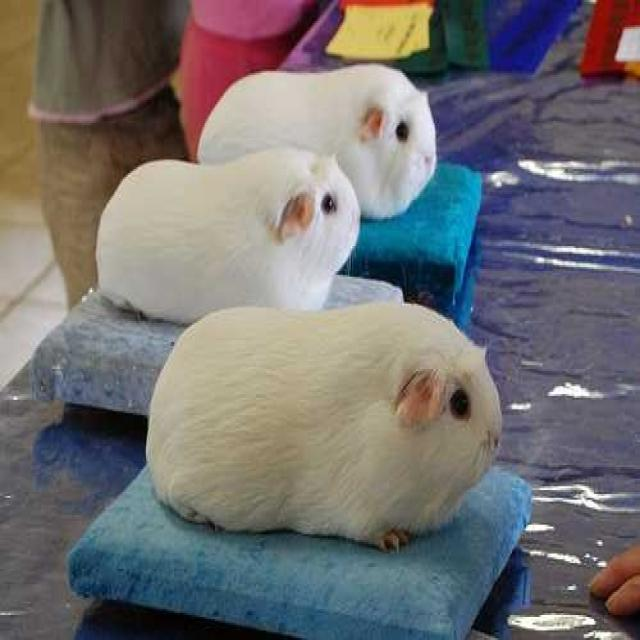guinea pig: (147, 308, 505, 554), (95, 150, 358, 305), (199, 63, 436, 175)
